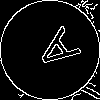A: (25, 25, 82, 79)
